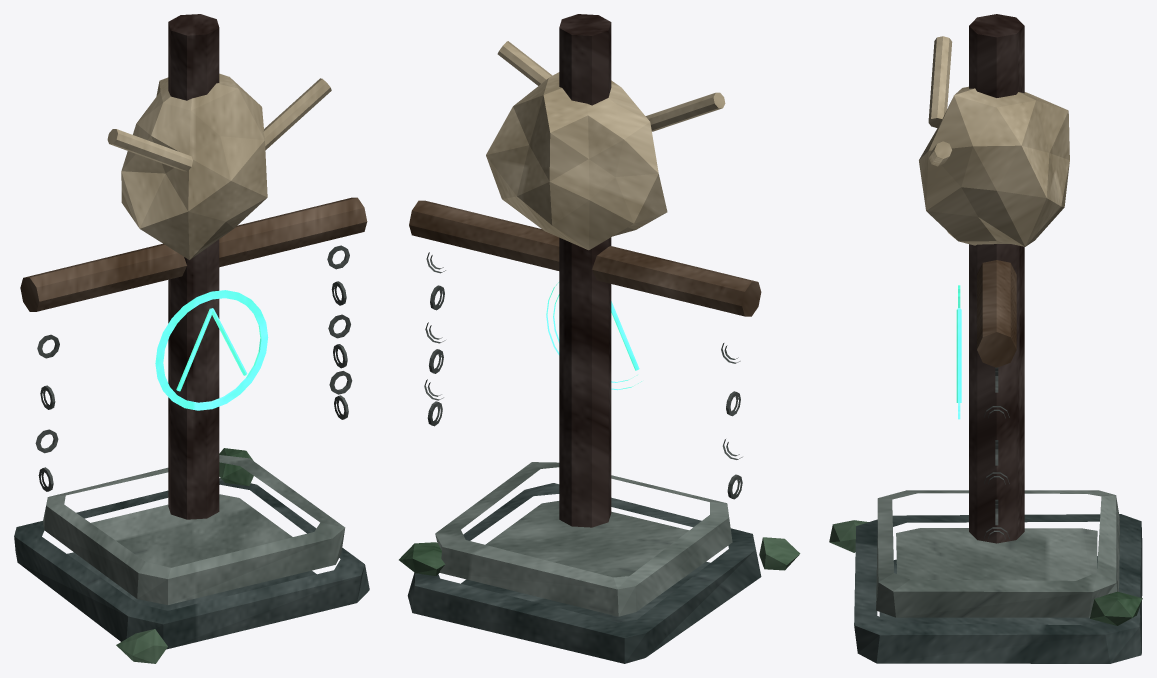
Rendered from 0519_effigy_19.glb.
3 views of the same model, side by side, from view 1: azimuth 30°, elevation 25°; view 2: azimuth 150°, elevation 25°; view 3: azimuth 270°, elevation 25° (orthographic). The views are drawn at different scales.
Parts seen in each view (by area): view 1: stone, bone, stone_dark, wood_dark, wood, glow, iron, moss; view 2: bone, stone, stone_dark, wood_dark, wood, moss, iron, glow; view 3: stone, bone, stone_dark, wood_dark, wood, moss, glow, iron.
Boxes of the visible parts, x1,y1,x2,y2 form: stone: [43, 455, 345, 604]; bone: [107, 73, 331, 259]; stone_dark: [14, 478, 369, 649]; wood_dark: [168, 14, 219, 519]; wood: [20, 197, 367, 311]; glow: [155, 290, 268, 410]; iron: [35, 245, 352, 491]; moss: [116, 448, 253, 663]; bone: [486, 41, 725, 250]; stone: [435, 462, 732, 616]; stone_dark: [407, 483, 761, 663]; wood_dark: [559, 14, 611, 527]; wood: [409, 200, 761, 316]; moss: [399, 537, 800, 575]; iron: [424, 252, 742, 499]; glow: [546, 282, 641, 390]; stone: [876, 490, 1119, 617]; bone: [919, 36, 1069, 246]; stone_dark: [854, 514, 1142, 663]; wood_dark: [969, 14, 1024, 543]; wood: [977, 260, 1016, 367]; moss: [829, 520, 1142, 625]; glow: [956, 285, 961, 419]; iron: [984, 367, 1009, 539].
Bounding box in the file's own units: 2 × 3.24 × 1.58.
Materials: 8 (8 with a texture image).
